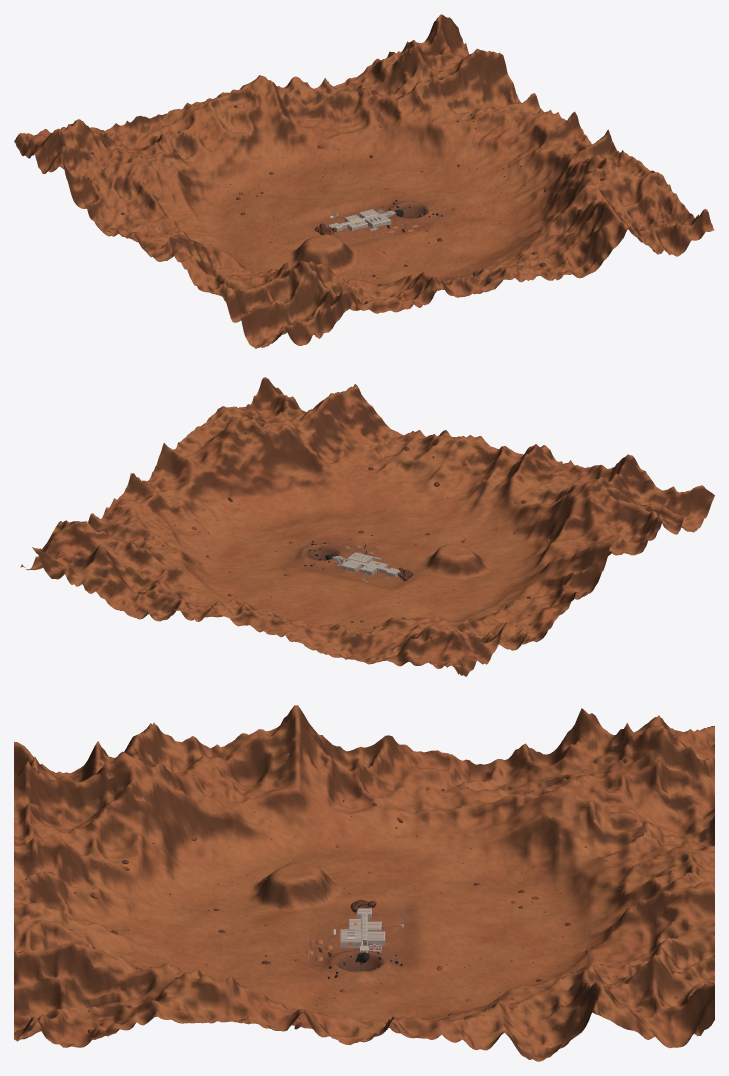
The model's file is ares_station_2110_ruined.glb.
3 views of the same model, one above another, from view 1: azimuth 30°, elevation 25°; view 2: azimuth 150°, elevation 25°; view 3: azimuth 270°, elevation 25° (orthographic). The views are drawn at different scales.
Parts seen in each view (by area): view 1: Terrain-col; view 2: Terrain-col; view 3: Terrain-col.
Part boxes in pixels (<box>): Terrain-col: <box>14,14,714,348</box>; Terrain-col: <box>20,377,714,676</box>; Terrain-col: <box>14,705,714,1061</box>.
Size of the model in its own units: 400 by 61.11 by 400.
